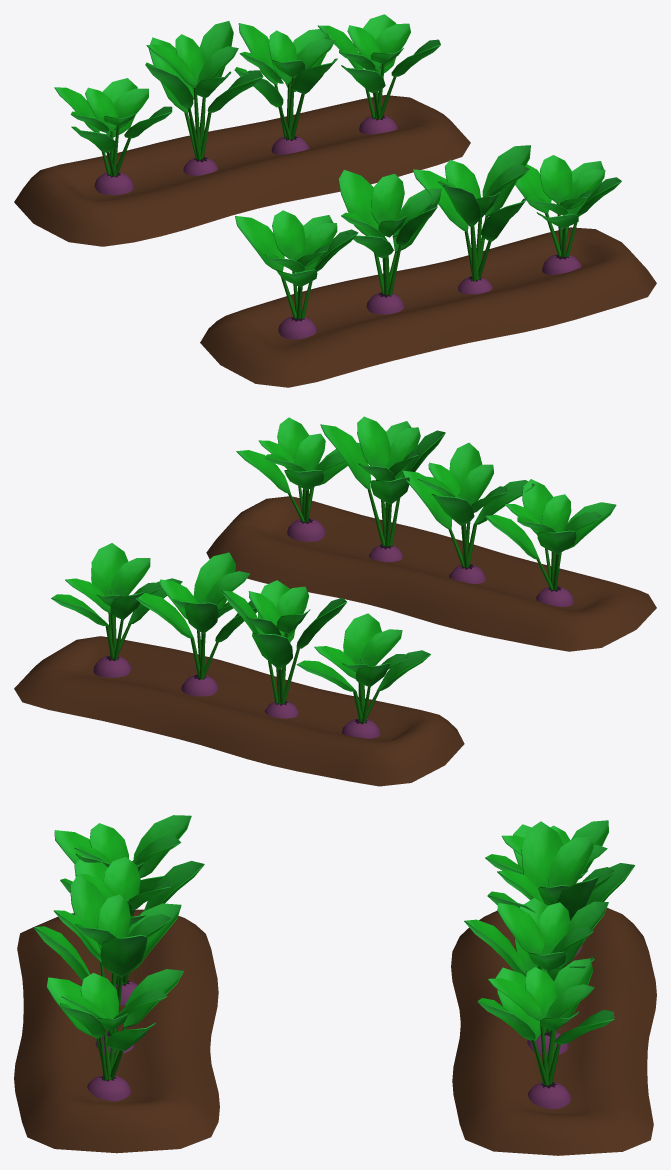
Rendered from Turnip4.fbx.
3 views of the same model, one above another, from view 1: azimuth 30°, elevation 25°; view 2: azimuth 150°, elevation 25°; view 3: azimuth 270°, elevation 25° (orthographic). The views are drawn at different scales.
Parts seen in each view (by area): view 1: 4; view 2: 4; view 3: 4.
Boxes of the visible parts, left/top/right/bottom form: 4: left=14, top=14, right=656, bottom=387; 4: left=14, top=416, right=656, bottom=786; 4: left=14, top=815, right=656, bottom=1155.
Size of the model in its own units: 272 by 85.35 by 310.
